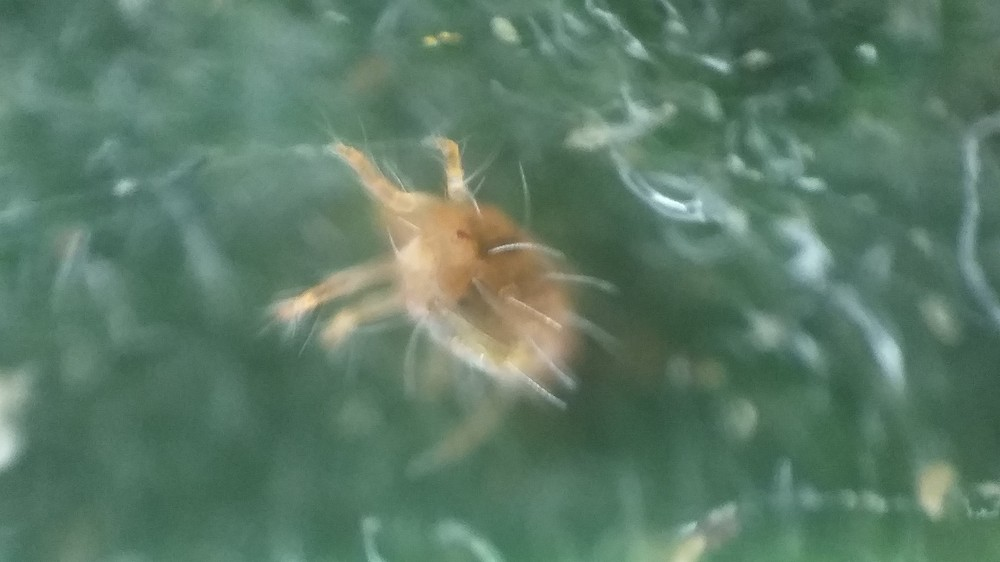Aracnido Rojo: (268, 135, 669, 465)
